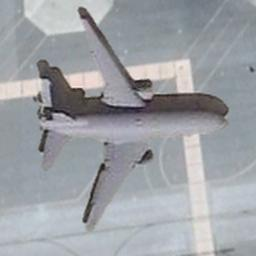Airplane: (25, 13, 230, 231)
